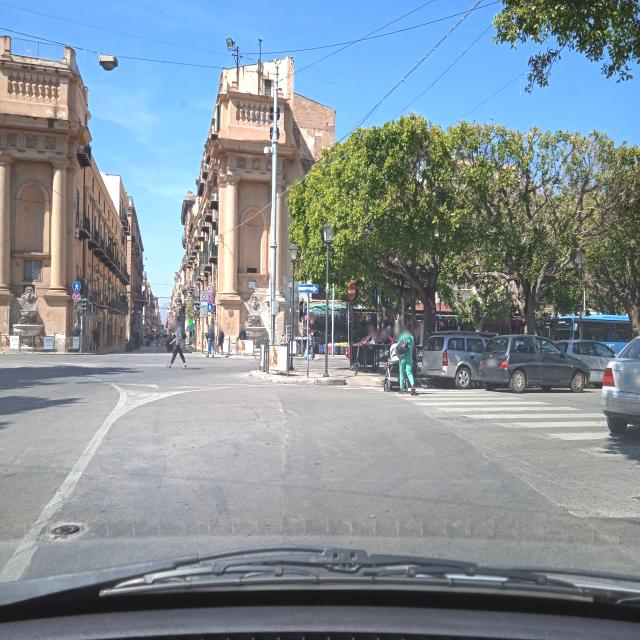car: (478, 333, 592, 392), (601, 329, 640, 440), (420, 331, 492, 390), (554, 339, 619, 380)
